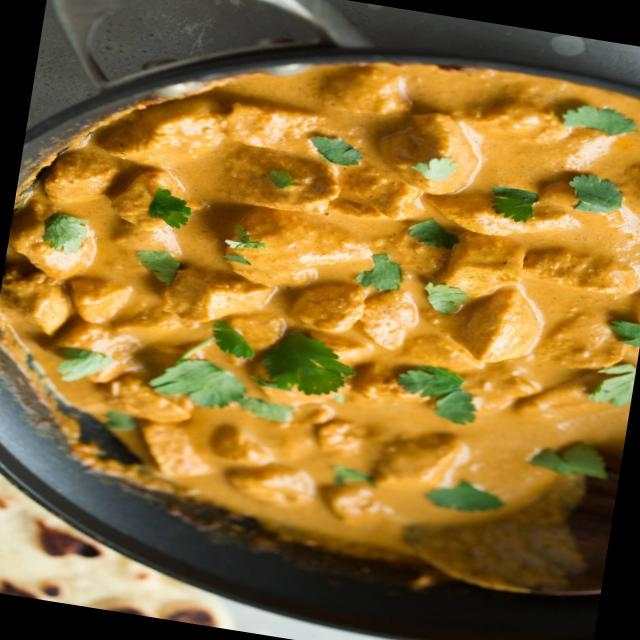chicken: (0, 12, 640, 592)
